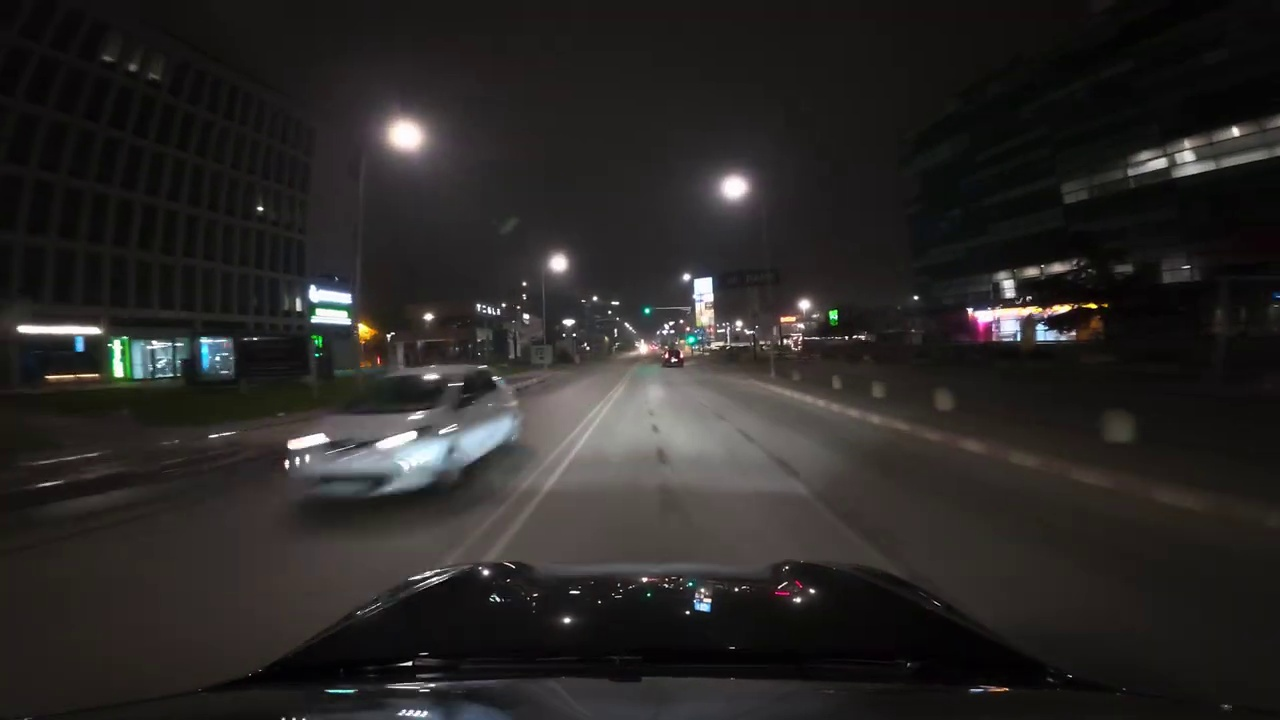acesa: (386, 119, 423, 151), (719, 173, 750, 202), (545, 250, 572, 276)
